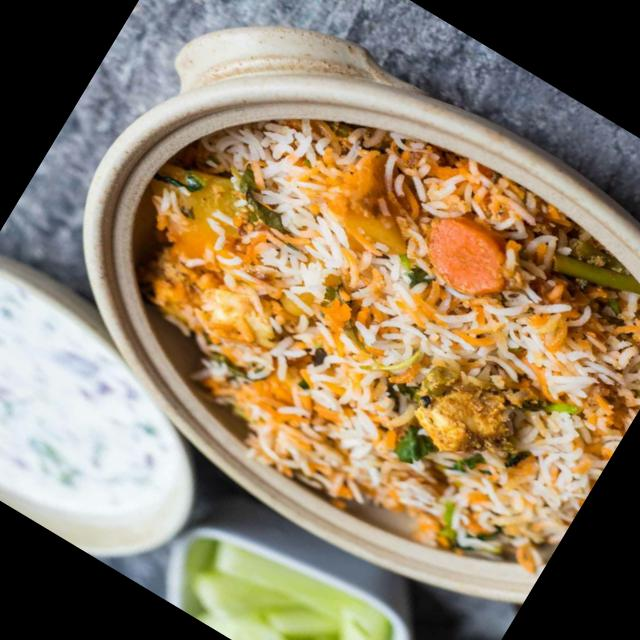Biryani: (63, 27, 640, 619)
